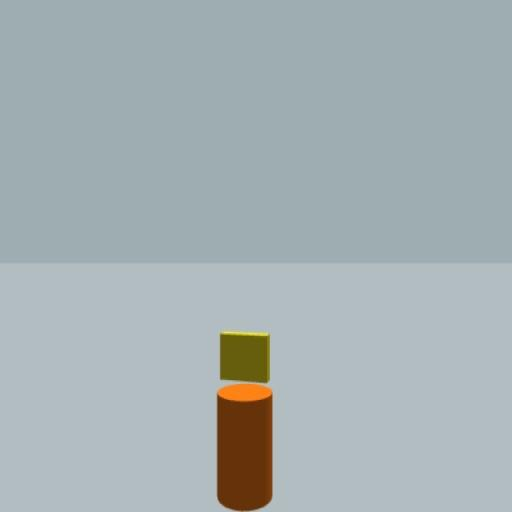buoy: (216, 330, 273, 512)
